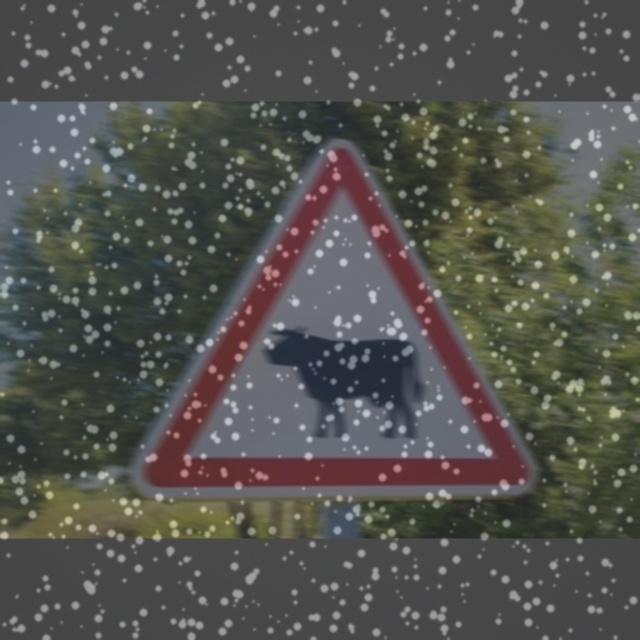Cattle: (150, 149, 548, 498)
